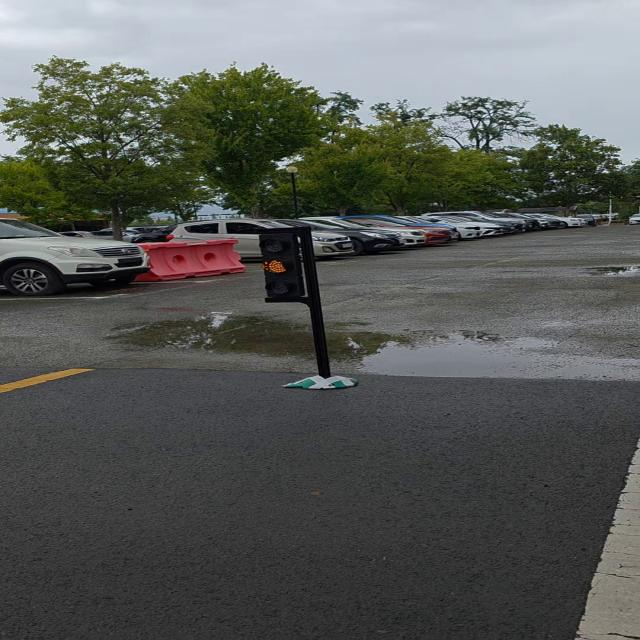yellow: (260, 232, 312, 302)
